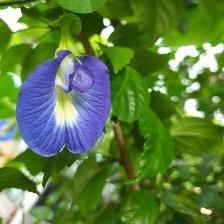shankupushpam: (15, 43, 115, 162)
